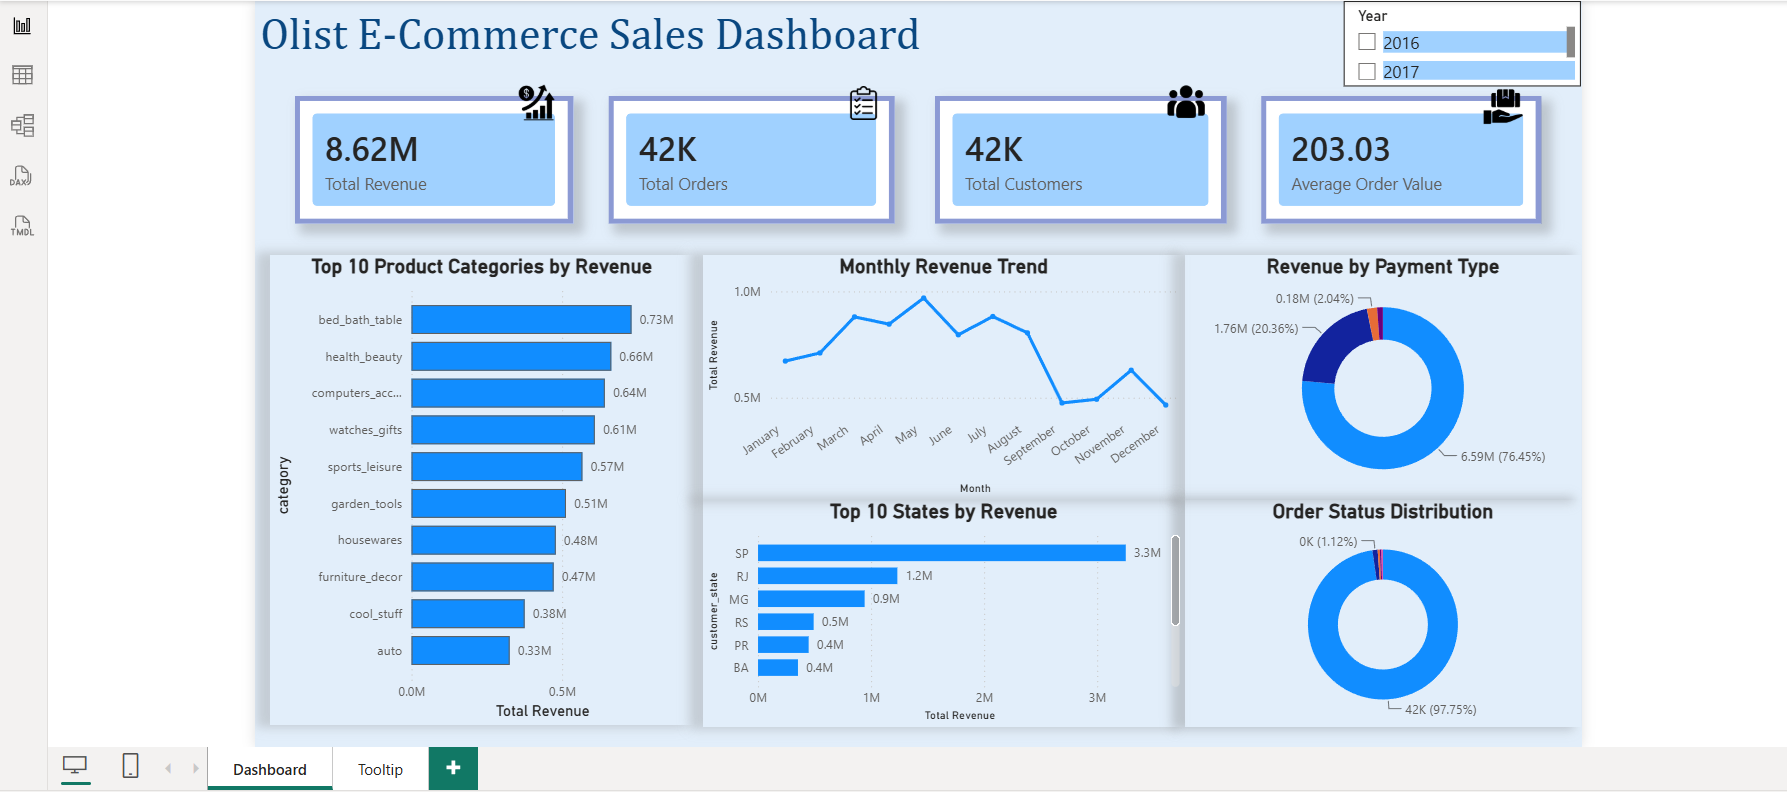

The page's visual inventory and layout, read from the dashboard file:
{"tool":"powerbi","page":{"name":"Dashboard","canvas":[1280,720],"ordinal":0},"visuals":[{"type":"cardVisual","fields":{"Data":["xport_order_details.Total Revenue"]},"box":[38.4,91.9,269,123.5],"z":0},{"type":"cardVisual","fields":{"Data":["xport_order_details.Total Orders"]},"box":[341.7,91.9,275.8,123.5],"z":1000},{"type":"cardVisual","fields":{"Data":["xport_order_details.Total Customers"]},"box":[655.9,91.9,281.3,123.5],"z":2000},{"type":"cardVisual","fields":{"Data":["xport_order_details.Average Order Value"]},"box":[971.5,91.9,270.3,123.5],"z":3000},{"type":"lineChart","title":"Monthly Revenue Trend","fields":{"Y":["xport_order_details.Total Revenue"],"Category":["xport_order_details.order_purchase_timestamp.Variation.Date Hierarchy.Year","xport_order_details.order_purchase_timestamp.Variation.Date Hierarchy.Month"]},"box":[431.9,244.9,465.7,236.5],"z":4000},{"type":"clusteredBarChart","title":"Top 10 Product Categories by Revenue","fields":{"Y":["xport_order_details.Total Revenue"],"Category":["xport_order_details.category"]},"box":[14.5,244.9,409,453.6],"z":5000},{"type":"donutChart","title":"Revenue by Payment Type","fields":{"Category":["xport_order_details.payment_type"],"Y":["xport_order_details.Total Revenue"]},"box":[897.6,244.9,382.4,236.5],"z":6000},{"type":"donutChart","title":"Order Status Distribution","fields":{"Category":["xport_order_details.order_status"],"Y":["xport_order_details.Total Orders"]},"box":[897.6,481.4,382.4,219.6],"z":7000},{"type":"clusteredBarChart","title":"Top 10 States by Revenue","fields":{"Category":["xport_order_details.customer_state"],"Y":["xport_order_details.Total Revenue"]},"box":[431.9,481.4,465.7,219.6],"z":8000},{"type":"slicer","fields":{"Values":["xport_order_details.order_purchase_timestamp.Variation.Date Hierarchy.Year"]},"box":[1051.1,0,229.2,82.3],"z":9000},{"type":"textbox","box":[0,1.4,655.9,68.6],"z":10000},{"type":"image","box":[249.7,81,43.9,34.3],"z":11000},{"type":"image","box":[557.1,82.3,60.4,32.9],"z":12000},{"type":"image","box":[881,75.5,35.7,42.5],"z":13000},{"type":"image","box":[1178.7,82.3,52.1,39.8],"z":14000}]}

Visuals, with their boxes on the page's 1280x720 design canvas (x1, y1, x2, y2). These are canvas units, not pixel positions in the 1787x792 screenshot, which may show the page scaled, cropped or inside an application window:
cardVisual - xport_order_details.Total Revenue: box=[38, 92, 307, 215]
cardVisual - xport_order_details.Total Orders: box=[342, 92, 618, 215]
cardVisual - xport_order_details.Total Customers: box=[656, 92, 937, 215]
cardVisual - xport_order_details.Average Order Value: box=[972, 92, 1242, 215]
"Monthly Revenue Trend" lineChart: box=[432, 245, 898, 481]
"Top 10 Product Categories by Revenue" clusteredBarChart: box=[14, 245, 424, 698]
"Revenue by Payment Type" donutChart: box=[898, 245, 1280, 481]
"Order Status Distribution" donutChart: box=[898, 481, 1280, 701]
"Top 10 States by Revenue" clusteredBarChart: box=[432, 481, 898, 701]
slicer - xport_order_details.order_purchase_timestamp.Variation.Date Hierarchy.Year: box=[1051, 0, 1280, 82]
textbox: box=[0, 1, 656, 70]
image: box=[250, 81, 294, 115]
image: box=[557, 82, 618, 115]
image: box=[881, 76, 917, 118]
image: box=[1179, 82, 1231, 122]
